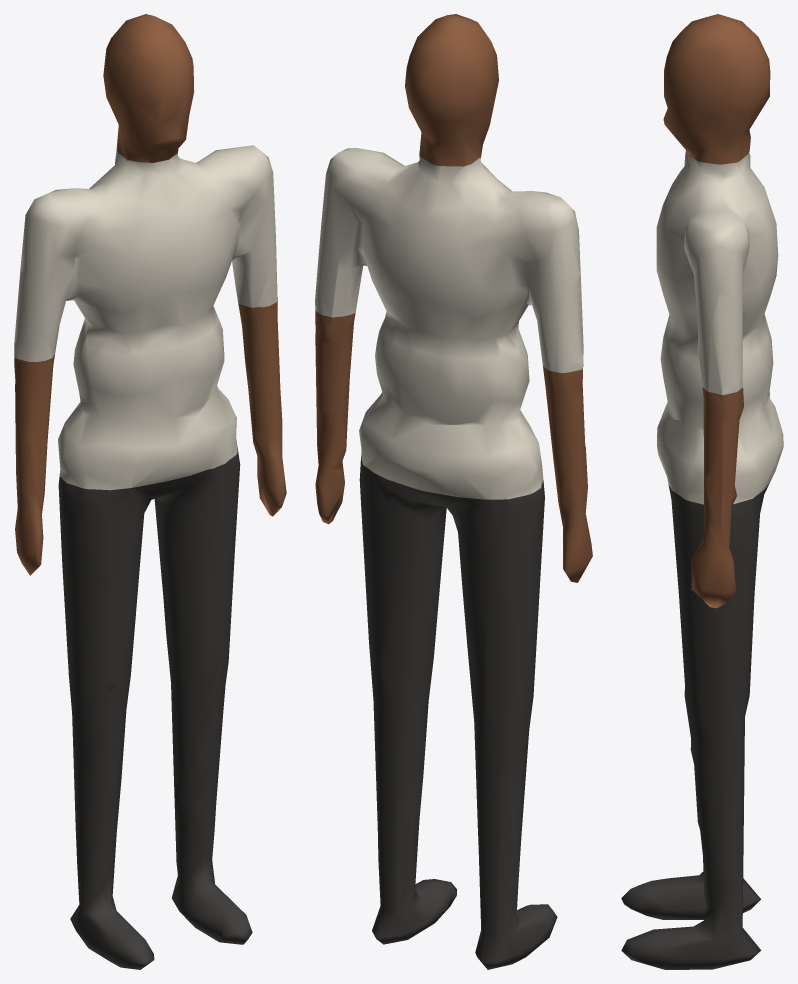
Rendered from person.glb.
The picture shows the model from 3 angles, left to right: view 1: azimuth 30°, elevation 25°; view 2: azimuth 150°, elevation 25°; view 3: azimuth 270°, elevation 25°; orthographic projection.
Visible parts, largest first — view 1: person; view 2: person; view 3: person.
Boxes of the visible parts, bbox=[...] form: person: bbox=[14, 14, 286, 969]; person: bbox=[315, 14, 592, 969]; person: bbox=[621, 14, 783, 969].
Size of the model in its own units: 0.5193 by 1.73 by 0.2754.
